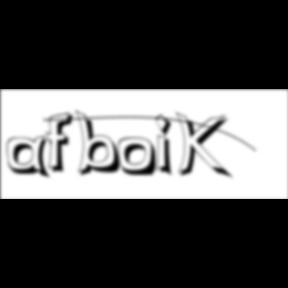K: (176, 110, 234, 182)
a: (7, 135, 55, 182)
b: (74, 109, 128, 179)
f: (46, 111, 80, 175)
i: (156, 112, 180, 180)
o: (118, 137, 160, 179)
